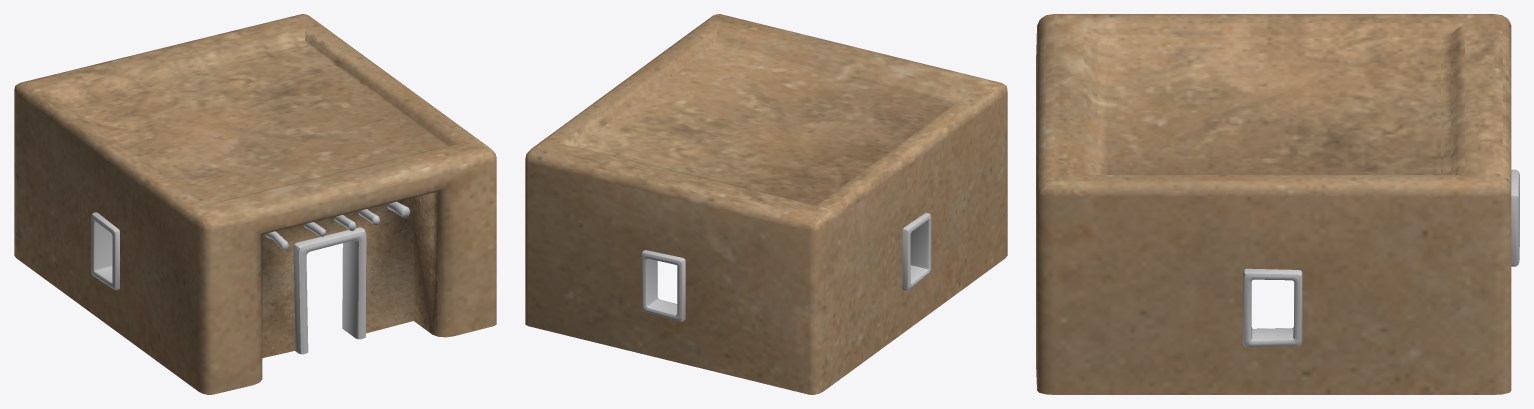
The model's file is Type1_3.fbx.
The picture shows the model from 3 angles, left to right: view 1: azimuth 30°, elevation 25°; view 2: azimuth 150°, elevation 25°; view 3: azimuth 270°, elevation 25°; orthographic projection. The views are drawn at different scales.
Visible parts, largest first — view 1: MAINWALL.001, WOODENPARTS.010; view 2: MAINWALL.001, WOODENPARTS.010; view 3: MAINWALL.001, WOODENPARTS.010.
Part boxes in pixels (left/top/right/bottom): MAINWALL.001: left=14, top=14, right=496, bottom=394; WOODENPARTS.010: left=91, top=201, right=410, bottom=354; MAINWALL.001: left=525, top=14, right=1007, bottom=394; WOODENPARTS.010: left=641, top=212, right=931, bottom=321; MAINWALL.001: left=1036, top=14, right=1511, bottom=394; WOODENPARTS.010: left=1243, top=169, right=1519, bottom=347.
Size of the model in its own units: 741 by 409 by 829.
